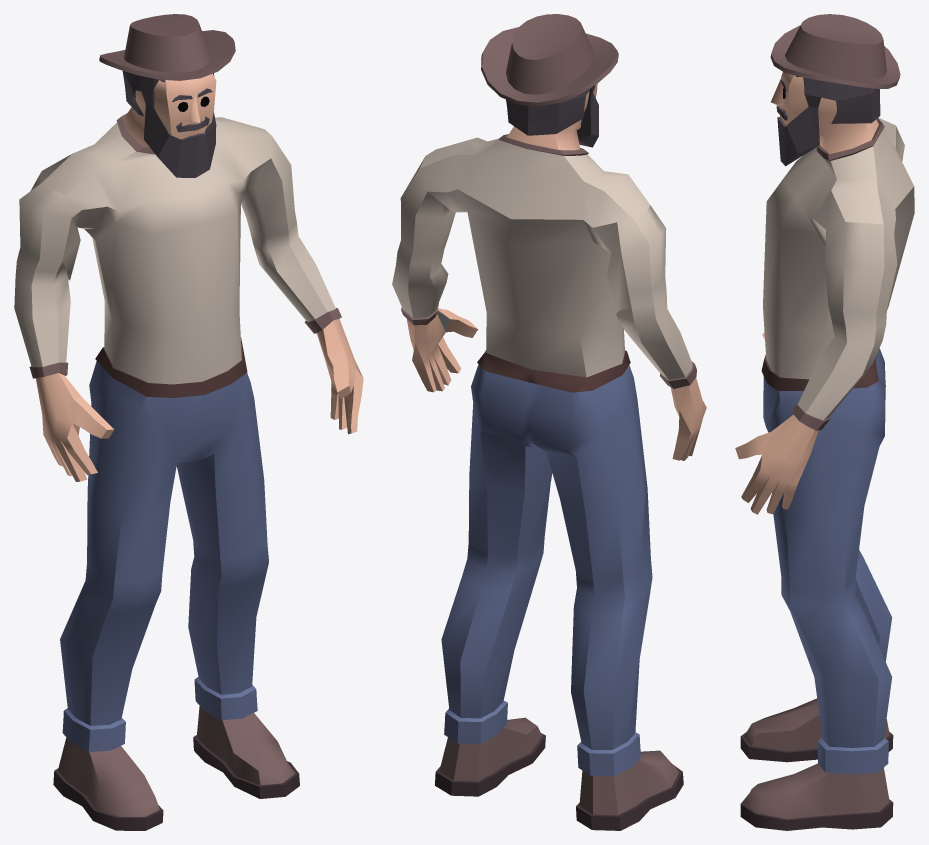
File: character4.glb
3 views of the same model, side by side, from view 1: azimuth 30°, elevation 25°; view 2: azimuth 150°, elevation 25°; view 3: azimuth 270°, elevation 25° (orthographic).
Visible parts, largest first — view 1: LowPolyCharacter2; view 2: LowPolyCharacter2; view 3: LowPolyCharacter2.
Boxes of the visible parts, x1,y1,x2,y2 form: LowPolyCharacter2: [14, 14, 363, 830]; LowPolyCharacter2: [392, 14, 706, 830]; LowPolyCharacter2: [735, 14, 914, 830].
Size of the model in its own units: 0.7733 by 1.88 by 0.4043.
